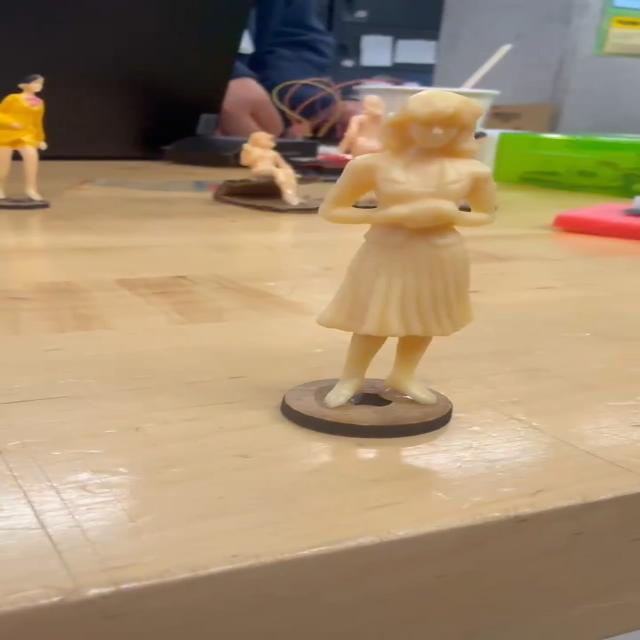Unauthorized: (326, 86, 484, 417)
